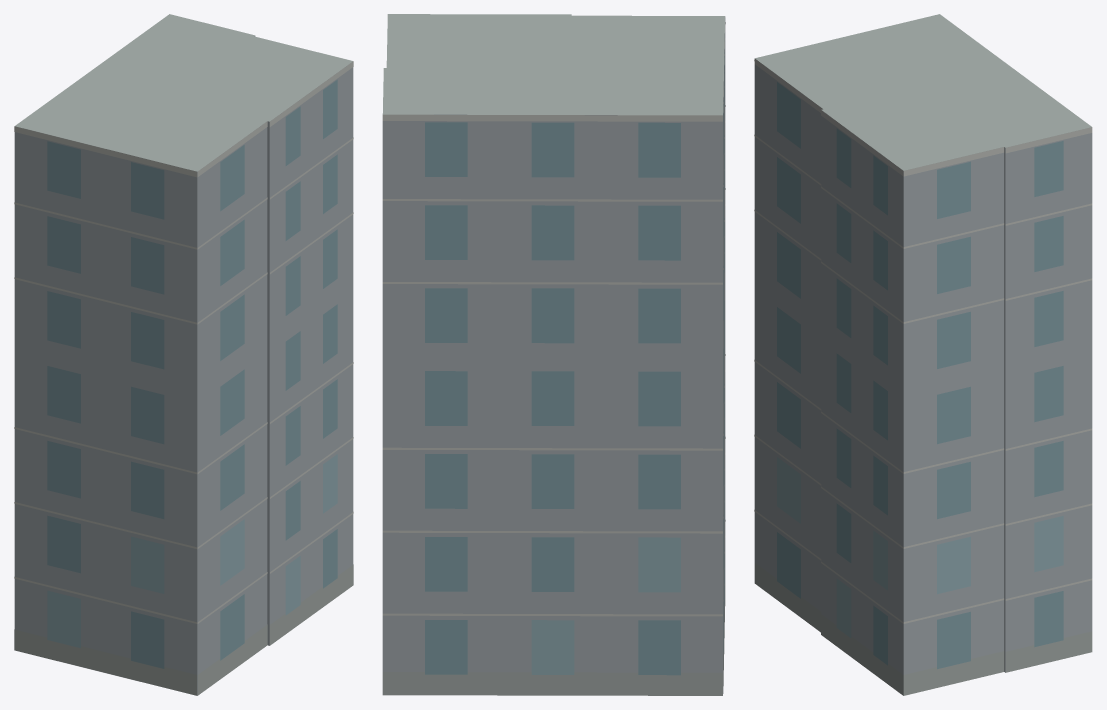
The model's file is survey-upis-32996482.glb.
3 renders of one model, left to right at view 1: azimuth 30°, elevation 25°; view 2: azimuth 150°, elevation 25°; view 3: azimuth 270°, elevation 25°, orthographic. The views are drawn at different scales.
Parts seen in each view (by area): view 1: survey-upis-32996482.tmp; view 2: survey-upis-32996482.tmp; view 3: survey-upis-32996482.tmp.
Boxes of the visible parts, bbox=[...] form: survey-upis-32996482.tmp: bbox=[14, 14, 353, 695]; survey-upis-32996482.tmp: bbox=[382, 14, 725, 695]; survey-upis-32996482.tmp: bbox=[754, 14, 1092, 695].
Size of the model in its own units: 14.18 by 22.1 by 12.9.
